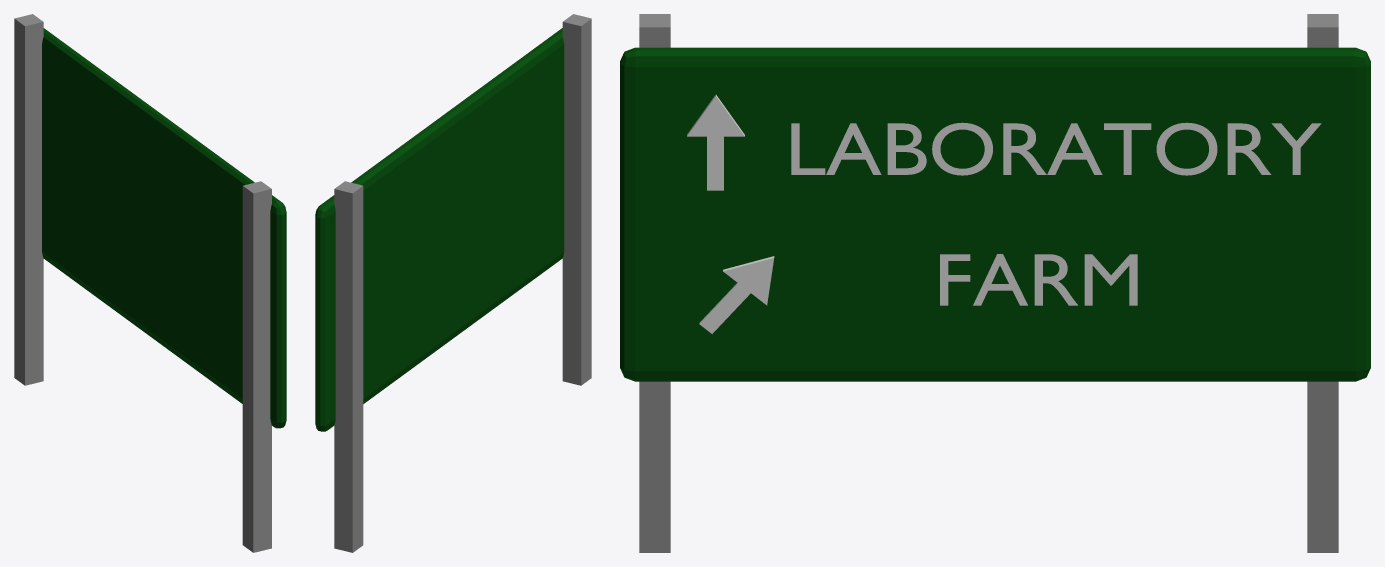
File: Znak.fbx
3 views of the same model, side by side, from view 1: azimuth 30°, elevation 25°; view 2: azimuth 150°, elevation 25°; view 3: azimuth 270°, elevation 25° (orthographic). The views are drawn at different scales.
Visible parts, largest first — view 1: Cube.002, Cube.001, Cube; view 2: Cube.002, Cube, Cube.001; view 3: Cube.002, Text, Cube, Cube.001, Text.001, Cube.004, Cube.003.
Part boxes in pixels (<box>): Cube.002: <box>42,28,286,428</box>; Cube.001: <box>242,181,271,552</box>; Cube: <box>14,14,43,385</box>; Cube.002: <box>315,28,564,431</box>; Cube: <box>334,181,363,552</box>; Cube.001: <box>562,14,591,385</box>; Cube.002: <box>620,47,1370,381</box>; Text: <box>791,122,1321,175</box>; Cube: <box>1307,14,1338,552</box>; Cube.001: <box>639,14,670,552</box>; Text.001: <box>940,254,1137,305</box>; Cube.004: <box>699,256,774,333</box>; Cube.003: <box>687,94,744,190</box>.
Size of the model in its own units: 57.98 by 625 by 809.
